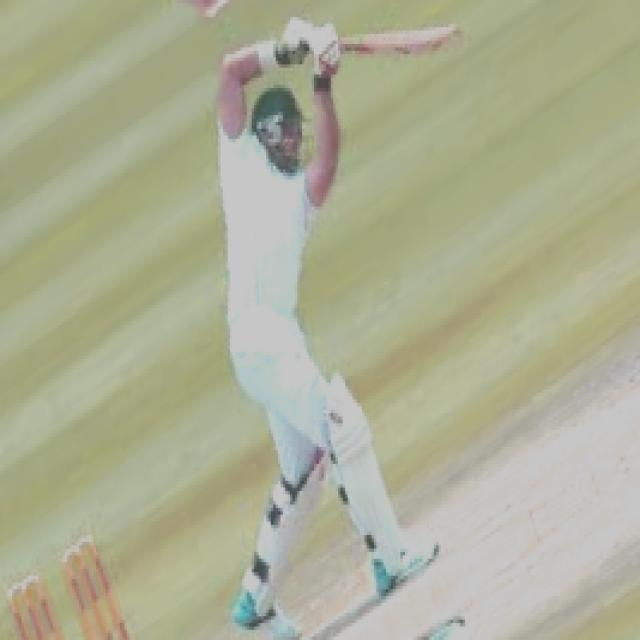toe: (432, 15, 468, 62)
